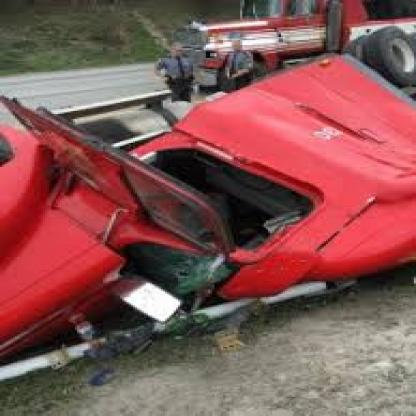accident: (0, 51, 416, 384)
